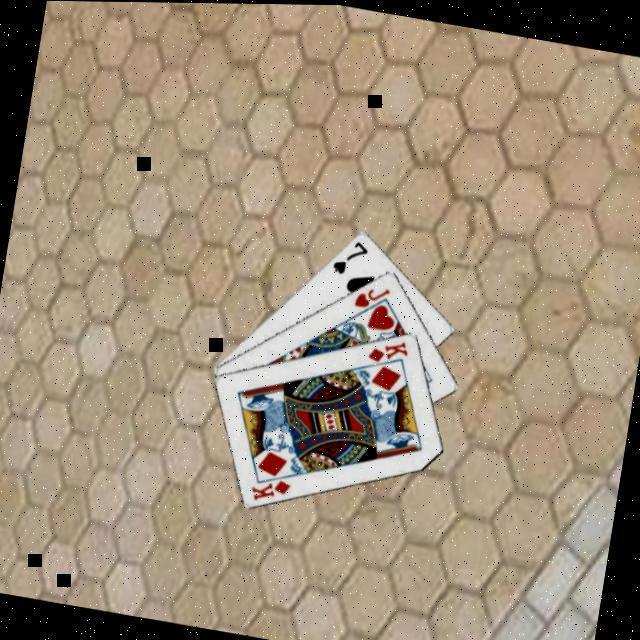7S: (328, 233, 372, 281)
JH: (349, 279, 394, 314)
KD: (364, 332, 412, 369), (246, 471, 294, 508)
